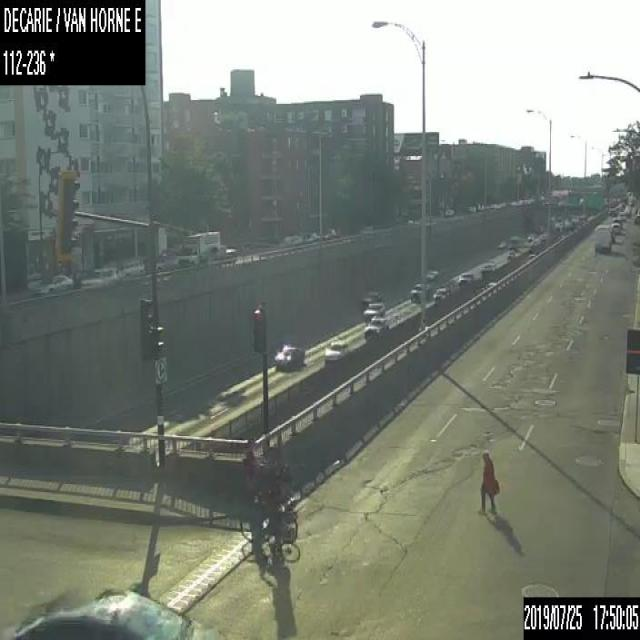cyclist: (239, 447, 298, 548)
pedestrian: (477, 448, 500, 515), (242, 436, 257, 507)
vehicle: (0, 585, 229, 639), (179, 230, 219, 266), (34, 270, 72, 294), (79, 265, 116, 287), (274, 343, 304, 369), (146, 250, 176, 271), (363, 314, 388, 339), (325, 337, 349, 363), (117, 257, 144, 277), (593, 224, 610, 252), (362, 289, 384, 308), (362, 302, 384, 321), (409, 281, 431, 300), (455, 270, 472, 286), (432, 285, 449, 299), (479, 263, 495, 276), (319, 227, 335, 239), (425, 266, 441, 278), (302, 231, 318, 242), (610, 216, 622, 228), (610, 221, 620, 233), (442, 208, 453, 216), (618, 210, 626, 221), (610, 228, 614, 242)
